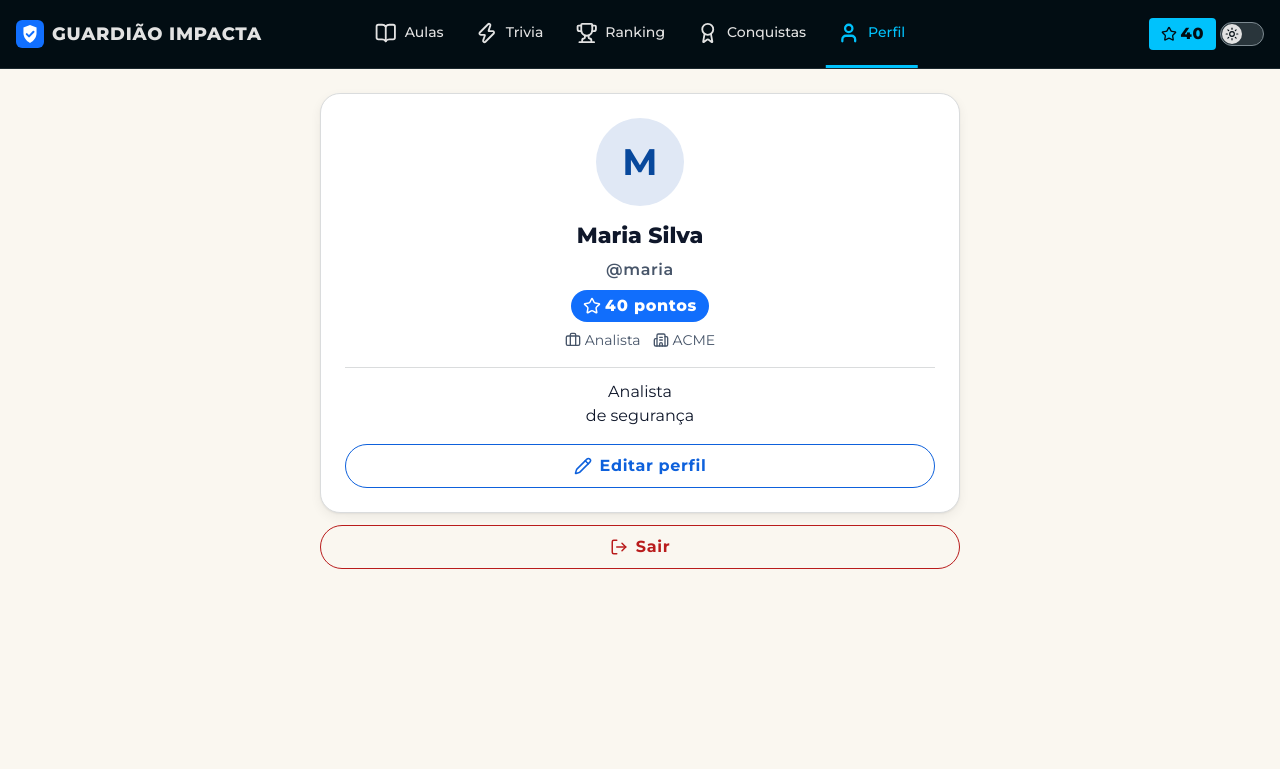
Test: Perfil › editar e salvar atualiza a tela e mostra confirmação
Expected: the navigation bar named "Navegação principal" is shown, [363,0,917,68]
Click the button "Editar perfil".
click(640, 466)  # box [345,444,935,488]
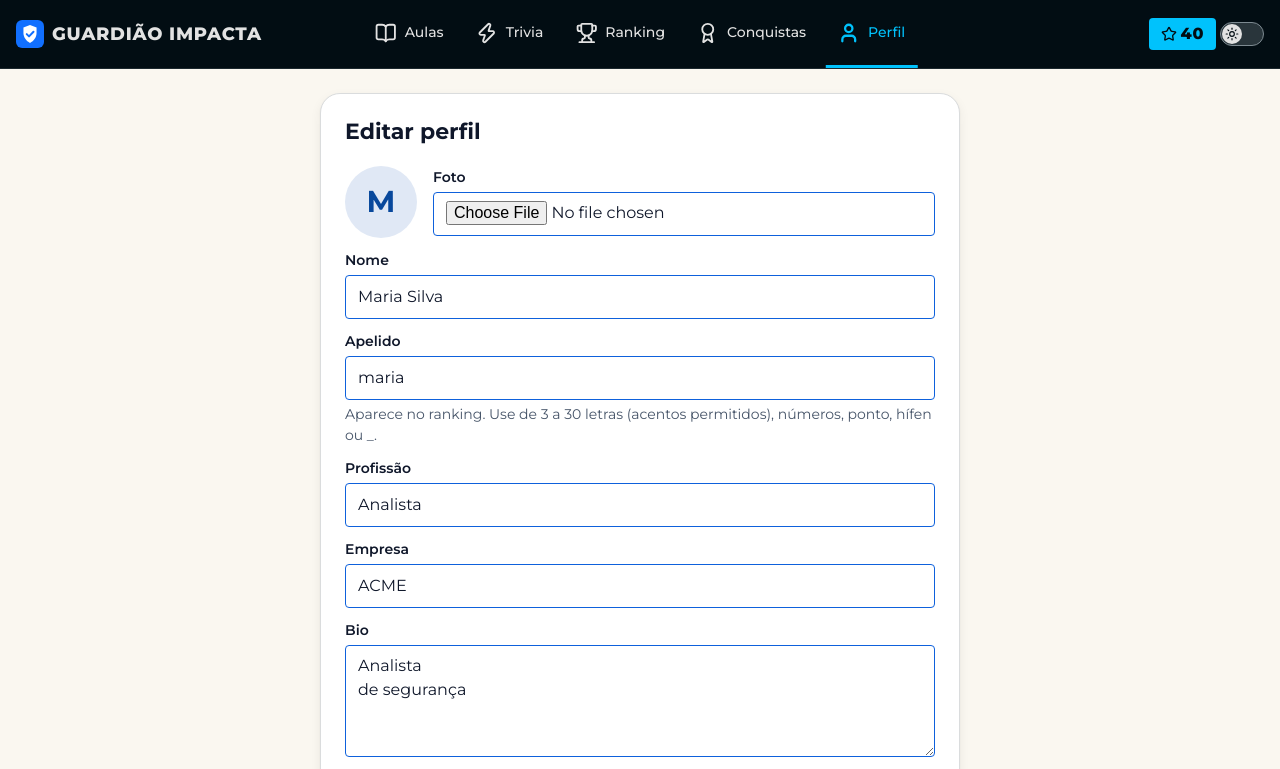
Replace the text in the field labelled "Nome" with "Maria Souza" at x=640, y=296, box [345,274,935,318]
(page scrolled)
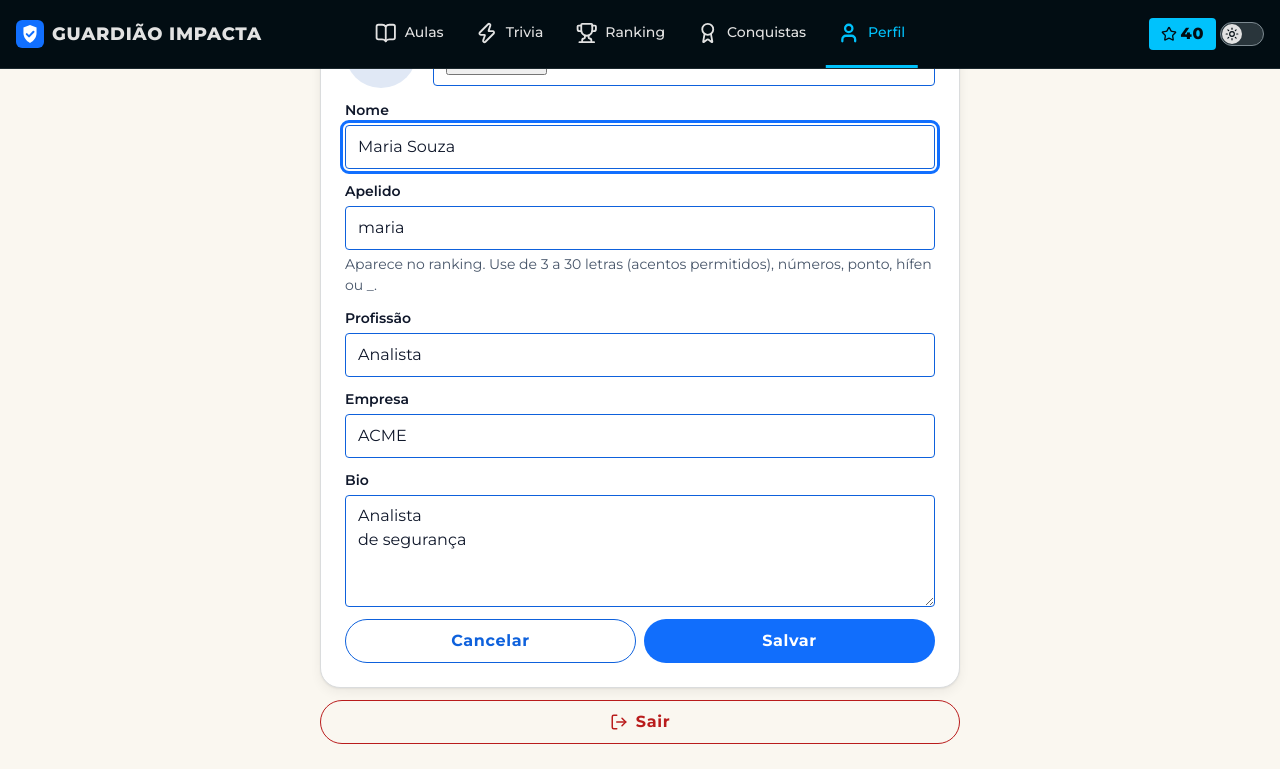
Click the button "Salvar".
click(790, 640)  # box [644,618,935,662]
(page scrolled)
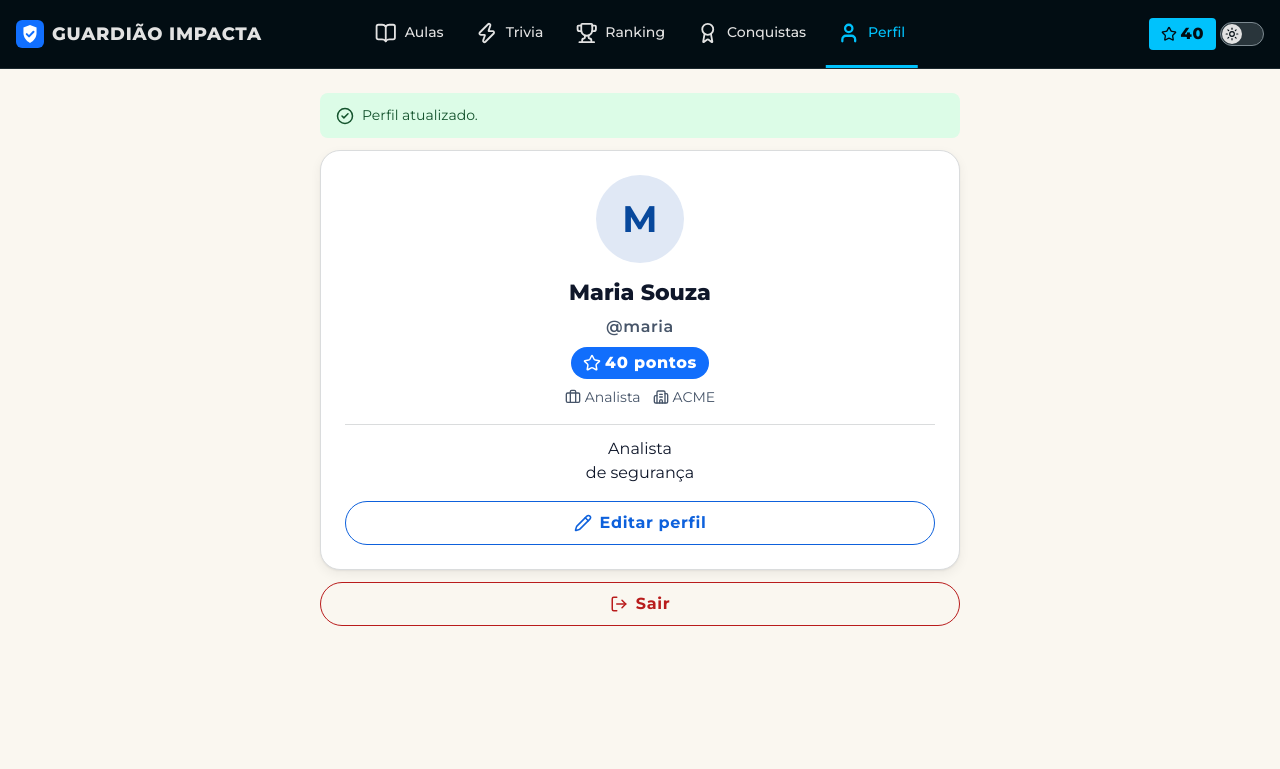
Expected: the text "Perfil atualizado." is shown, [362,105,478,126]
Expected: the heading "Maria Souza" is shown, [569,279,711,306]
